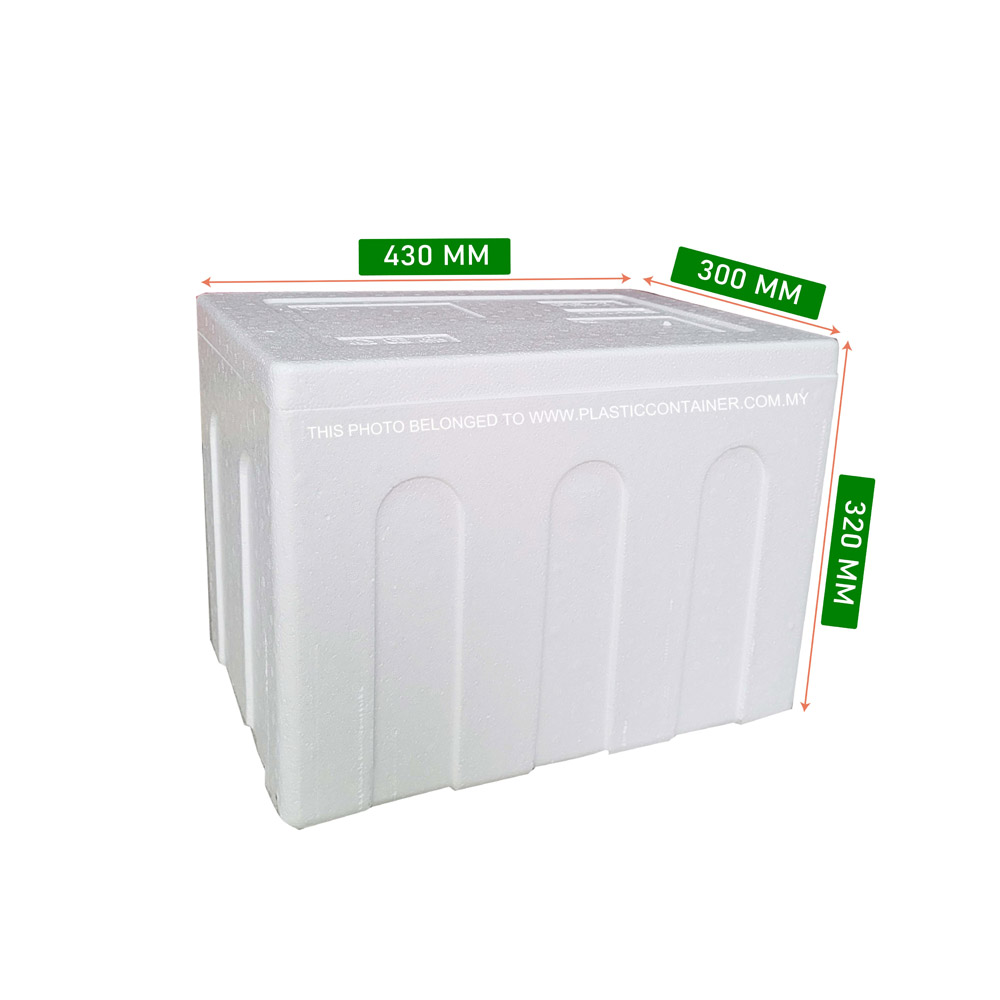Boxes: (196, 250, 874, 826)
